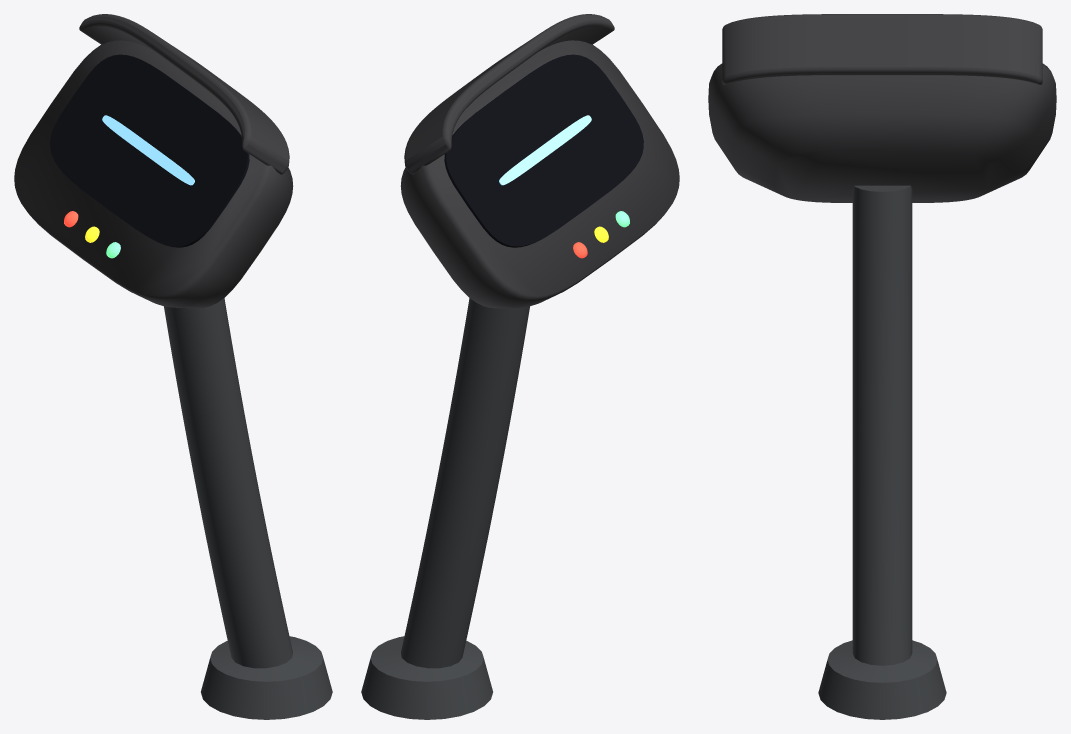
File: bar_unit.glb
3 renders of one model, left to right at view 1: azimuth 30°, elevation 25°; view 2: azimuth 150°, elevation 25°; view 3: azimuth 270°, elevation 25°, orthographic. The views are drawn at different scales.
Parts seen in each view (by area): view 1: clocks_bar_unit; view 2: clocks_bar_unit; view 3: clocks_bar_unit.
Boxes of the visible parts, <box> form: clocks_bar_unit: <box>14,14,332,719</box>; clocks_bar_unit: <box>361,14,679,719</box>; clocks_bar_unit: <box>708,14,1056,719</box>.
Size of the model in its own units: 0.0598 by 0.1537 by 0.076.
